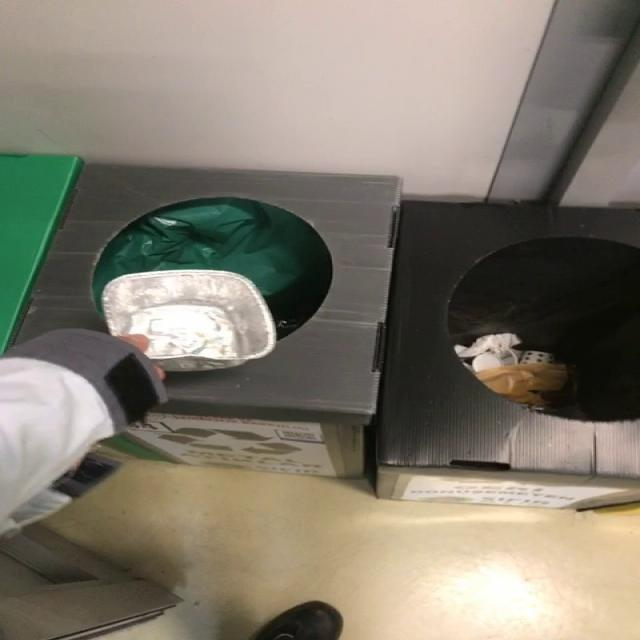bin: (16, 165, 400, 476)
metal: (101, 270, 277, 372)
